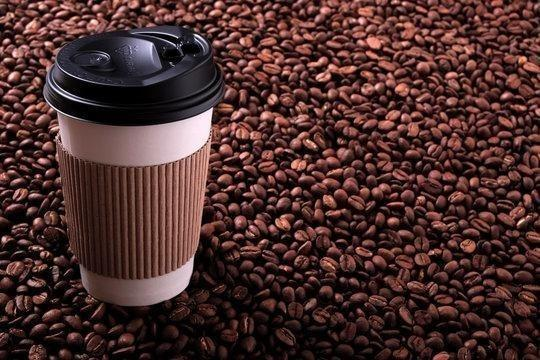cup-disposable: (37, 21, 230, 314)
